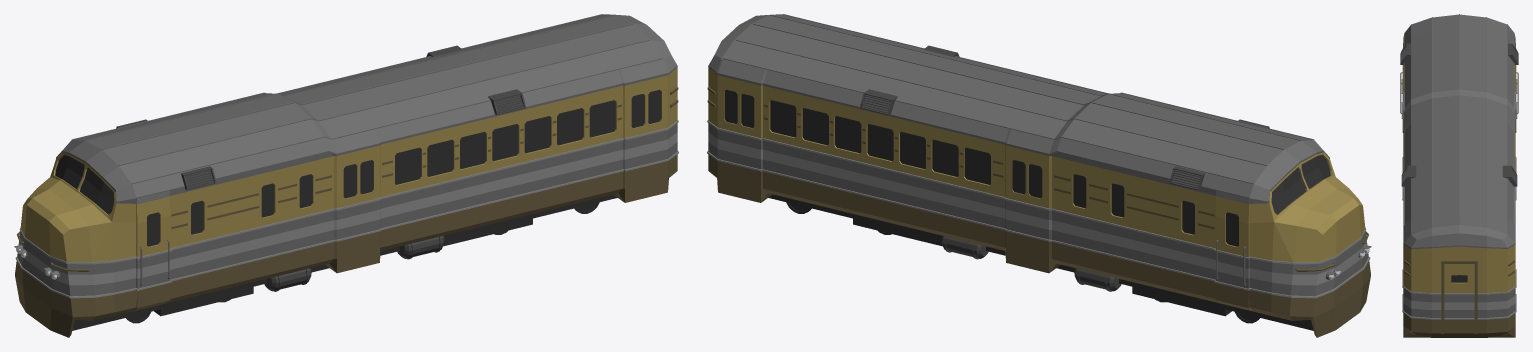
File: TrainFront.glb
3 views of the same model, side by side, from view 1: azimuth 30°, elevation 25°; view 2: azimuth 150°, elevation 25°; view 3: azimuth 270°, elevation 25° (orthographic). The views are drawn at different scales.
Visible parts, largest first — view 1: Train; view 2: Train; view 3: Train.
Boxes of the visible parts, box(x1,y1,x2,y2) form: Train: box(14, 14, 678, 337); Train: box(707, 14, 1371, 337); Train: box(1400, 14, 1518, 337).
Size of the model in its own units: 10.35 by 2.68 by 2.15.
